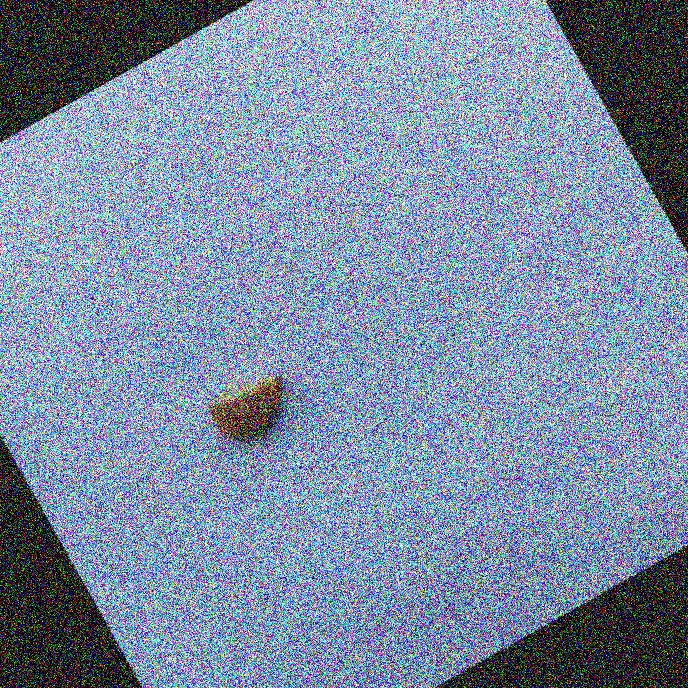grade4: (194, 355, 313, 461)
